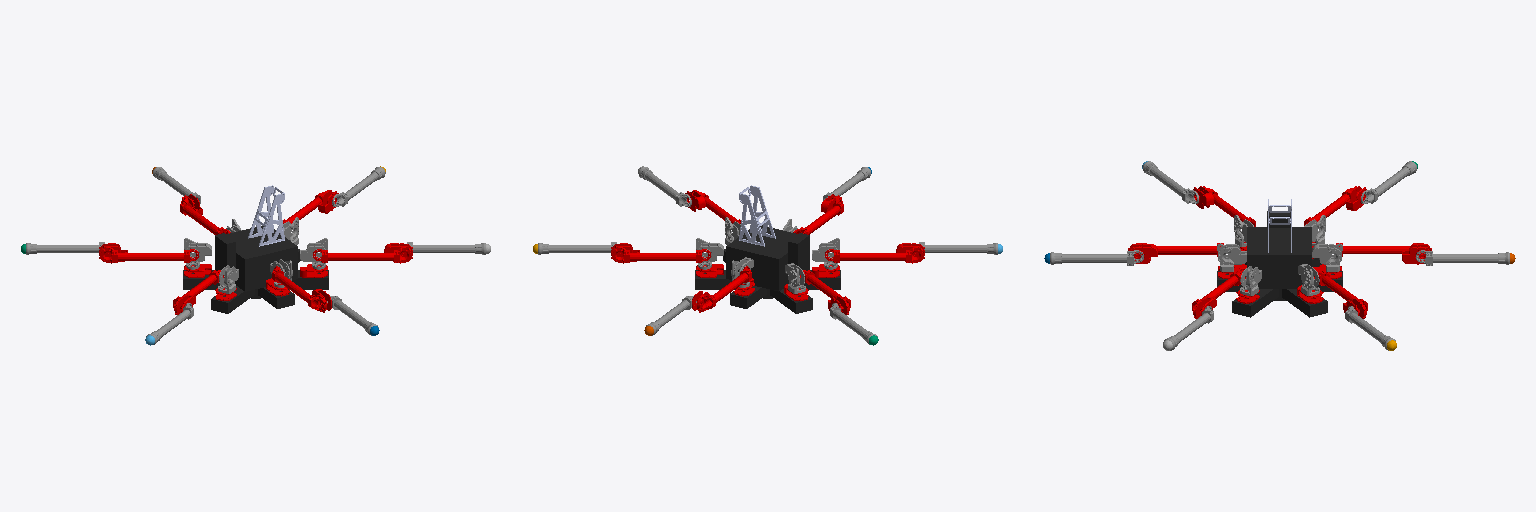
--- Render facts (derived) ---
3 views of the same robot in one strip: view 1: azimuth 30°, elevation 25°; view 2: azimuth 150°, elevation 25°; view 3: azimuth 270°, elevation 25° (orthographic).
Robot: m6 — 42 links, 41 joints (18 revolute, 23 fixed); root link base_link; default pose: every joint at zero.
Links seen in each view (by area): view 1: base_link, camera_mount, elbow2__INPUT_INTERFACE, elbow5__INPUT_INTERFACE, elbow4__INPUT_INTERFACE, elbow3__INPUT_INTERFACE, leg2__LAST_LINK, leg5__LAST_LINK, elbow1__INPUT_INTERFACE, elbow6__INPUT_INTERFACE, leg1__LAST_LINK; view 2: base_link, camera_mount, elbow6__INPUT_INTERFACE, elbow1__INPUT_INTERFACE, elbow3__INPUT_INTERFACE, elbow4__INPUT_INTERFACE, leg6__LAST_LINK, leg1__LAST_LINK, elbow5__INPUT_INTERFACE, leg2__LAST_LINK, elbow2__INPUT_INTERFACE; view 3: base_link, elbow4__INPUT_INTERFACE, elbow3__INPUT_INTERFACE, leg4__LAST_LINK, leg3__LAST_LINK, elbow5__INPUT_INTERFACE, elbow1__INPUT_INTERFACE, elbow2__INPUT_INTERFACE, elbow6__INPUT_INTERFACE, leg5__LAST_LINK, leg6__LAST_LINK, shoulder3__INPUT_INTERFACE (+3 smaller).
Link boxes in pixels (x1,y1,x2,y2): base_link: (183, 226, 328, 313); camera_mount: (248, 185, 284, 246); elbow2__INPUT_INTERFACE: (313, 243, 412, 263); elbow5__INPUT_INTERFACE: (99, 243, 198, 263); elbow4__INPUT_INTERFACE: (272, 266, 331, 312); elbow3__INPUT_INTERFACE: (180, 194, 230, 234); leg2__LAST_LINK: (407, 242, 485, 254); leg5__LAST_LINK: (26, 242, 104, 254); elbow1__INPUT_INTERFACE: (283, 190, 338, 223); elbow6__INPUT_INTERFACE: (173, 270, 223, 314); leg1__LAST_LINK: (332, 167, 385, 206); base_link: (695, 225, 840, 313); camera_mount: (739, 185, 775, 246); elbow6__INPUT_INTERFACE: (825, 243, 924, 263); elbow1__INPUT_INTERFACE: (611, 243, 710, 263); elbow3__INPUT_INTERFACE: (692, 266, 751, 312); elbow4__INPUT_INTERFACE: (793, 194, 843, 234); leg6__LAST_LINK: (919, 242, 997, 254); leg1__LAST_LINK: (538, 242, 616, 254); elbow5__INPUT_INTERFACE: (800, 270, 850, 314); leg2__LAST_LINK: (638, 167, 691, 206); elbow2__INPUT_INTERFACE: (685, 190, 740, 223); base_link: (1217, 211, 1342, 317); elbow4__INPUT_INTERFACE: (1128, 243, 1223, 263); elbow3__INPUT_INTERFACE: (1336, 243, 1431, 264); leg4__LAST_LINK: (1050, 250, 1143, 265); leg3__LAST_LINK: (1416, 250, 1509, 265); elbow5__INPUT_INTERFACE: (1304, 186, 1366, 225); elbow1__INPUT_INTERFACE: (1314, 270, 1367, 318); elbow2__INPUT_INTERFACE: (1192, 270, 1245, 318); elbow6__INPUT_INTERFACE: (1193, 186, 1255, 226); leg5__LAST_LINK: (1361, 161, 1416, 203); leg6__LAST_LINK: (1143, 161, 1198, 203); shoulder3__INPUT_INTERFACE: (1312, 243, 1342, 271).
Size in the robot's own frame: 1.54 by 1.67 by 0.3945 metres.
26 mesh visuals loaded from 8 distinct referenced files (7 binary STL); not drawn: 1 (reference not matched to a file when rendering).

The robot description file, URDF, robot "m6":
<?xml version="1.0" encoding="utf-8"?>
<!-- =================================================================================== -->
<!-- |    This document was autogenerated by xacro from m6.urdf.xacro                  | -->
<!-- |    EDITING THIS FILE BY HAND IS NOT RECOMMENDED                                 | -->
<!-- =================================================================================== -->
<robot name="m6">
  <material name="red">
    <color rgba="0.92 0.0 0.0 1"/>
  </material>
  <material name="black">
    <color rgba="0.2 0.2 0.2 1"/>
  </material>
  <material name="grey">
    <color rgba="0.6 0.6 0.6 1"/>
  </material>
  <!-- <link name="dummy">
  </link>

  <joint name="dummy_joint" type="fixed">
  <parent link="dummy"/>
  <child link="base_link"/>
  </joint> -->
  <link name="base_link">
    <inertial>
      <origin rpy="0 0 0 " xyz="-0.0028085 -0.0003448 0.0270705"/>
      <mass value="1.8476"/>
      <inertia ixx="0" ixy="0" ixz="0" iyy="0" iyz="0" izz="0"/>
    </inertial>
    <visual>
      <origin rpy="0 0 0" xyz="0 0 0"/>
      <geometry>
        <mesh filename="yuna_stl/M6_base_matt6_boxed_full.STL"/>
      </geometry>
      <material name="black">
      </material>
    </visual>
    <collision>
      <origin rpy="0.0 0.0 0.0" xyz="-0.020030 0.0 0.09"/>
      <geometry>
        <box size="0.261940 0.223 0.18"/>
      </geometry>
    </collision>
    <collision>
      <origin rpy="0.0 0.0 0.0" xyz="0.0 0.0 -0.0335"/>
      <geometry>
        <cylinder length="0.063" radius="0.0777"/>
      </geometry>
    </collision>
    <!-- Pipes below PC box -->
    <collision>
      <origin rpy="0.523583333333 1.57075 0.0" xyz="0.1209 -0.06985 -0.02"/>
      <geometry>
        <cylinder length="0.126" radius="0.015800"/>
      </geometry>
    </collision>
    <collision>
      <origin rpy="-0.523583333333 1.57075 0.0" xyz="0.1209 0.06985 -0.02"/>
      <geometry>
        <cylinder length="0.126" radius="0.015800"/>
      </geometry>
    </collision>
    <collision>
      <origin rpy="0.523583333333 1.57075 0.0" xyz="-0.1209 0.06985 -0.02"/>
      <geometry>
        <cylinder length="0.126" radius="0.015800"/>
      </geometry>
    </collision>
    <collision>
      <origin rpy="-0.523583333333 1.57075 0.0" xyz="-0.1209 -0.06985 -0.02"/>
      <geometry>
        <cylinder length="0.126" radius="0.015800"/>
      </geometry>
    </collision>
    <collision>
      <origin rpy="1.57075 1.57075 0.0" xyz="0.0 0.1147 -0.02"/>
      <geometry>
        <cylinder length="0.076" radius="0.015800"/>
      </geometry>
    </collision>
    <collision>
      <origin rpy="1.57075 1.57075 0.0" xyz="0.0 -0.1147 -0.02"/>
      <geometry>
        <cylinder length="0.076" radius="0.015800"/>
      </geometry>
    </collision>
    <!-- Boxes at the end of pipes -->
    <collision>
      <origin rpy="0.0 0.0 0.523583333333" xyz="0.20802 0.1201 -0.023"/>
      <geometry>
        <box size="0.073 0.075 0.046"/>
      </geometry>
    </collision>
    <collision>
      <origin rpy="0.0 0.0 -0.523583333333" xyz="0.20802 -0.1201 -0.023"/>
      <geometry>
        <box size="0.073 0.075 0.046"/>
      </geometry>
    </collision>
    <collision>
      <origin rpy="0.0 0.0 0.523583333333" xyz="-0.20802 -0.1201 -0.023"/>
      <geometry>
        <box size="0.073 0.075 0.046"/>
      </geometry>
    </collision>
    <collision>
      <origin rpy="0.0 0.0 -0.523583333333" xyz="-0.20802 0.1201 -0.023"/>
      <geometry>
        <box size="0.073 0.075 0.046"/>
      </geometry>
    </collision>
    <collision>
      <origin rpy="0.0 0.0 1.57075" xyz="0.0 0.1902 -0.023"/>
      <geometry>
        <box size="0.073 0.075 0.046"/>
      </geometry>
    </collision>
    <collision>
      <origin rpy="0.0 0.0 1.57075" xyz="0.0 -0.1902 -0.023"/>
      <geometry>
        <box size="0.073 0.075 0.046"/>
      </geometry>
    </collision>
  </link>
  <link name="camera_mount">
    <inertial>
      <origin rpy="0 0 0" xyz="-0.00036 0.10008 -0.02312"/>
      <mass value="0.0"/>
      <inertia ixx="0.0" ixy="0.0" ixz="0.0" iyy="0.0" iyz="0.0" izz="0.0"/>
    </inertial>
    <visual>
      <origin rpy="0 0 0" xyz="0 0 0"/>
      <geometry>
        <mesh filename="yuna_stl/camera_mount.STL" scale="1 1 1"/>
      </geometry>
      <material name="">
        <color rgba="0.79216 0.81961 0.93333 1"/>
      </material>
    </visual>
    <collision>
      <origin rpy="0 0 0" xyz="0 0 0"/>
      <geometry>
        <mesh filename="yuna_stl/camera_mount.STL" scale="1 1 1"/>
      </geometry>
    </collision>
  </link>
  <joint name="mount_joint" type="fixed">
    <origin rpy="1.57075 0 -1.57075" xyz="0.045 0 0.125"/>
    <parent link="base_link"/>
    <child link="camera_mount"/>
    <axis xyz="0 0 1"/>
    <limit effort="0" velocity="0"/>
  </joint>
  <!-- <joint name="camera_joint" type="fixed">
      <axis xyz="0 1 0" />
      <origin xyz="0 0 0" rpy="$0 0 0" />
      <parent link="camera_mount"/>
      <child link="camera_joint_link"/>
    </joint>
    <link name="camera_mount"/>
    <link name="camera_joint_link"/> -->


  <material name="realsense_d435_camera_aluminum">
    <color rgba="0.5 0.5 0.5 1"/>
  </material>
  <!-- camera body, with origin at bottom screw mount -->
  <joint name="realsense_d435_camera_joint" type="fixed">
    <origin rpy="0 0.2 0" xyz="0.1 0.0 0.3"/>
    <parent link="base_link"/>
    <child link="realsense_d435_camera_bottom_screw_frame"/>
  </joint>
  <link name="realsense_d435_camera_bottom_screw_frame"/>
  <joint name="realsense_d435_camera_link_joint" type="fixed">
    <origin rpy="0 0 0" xyz="0 0.0175 0.0125"/>
    <parent link="realsense_d435_camera_bottom_screw_frame"/>
    <child link="realsense_d435_camera_link"/>
  </joint>
  <link name="realsense_d435_camera_link">
    <visual>
      <origin rpy="1.57079632679 0 1.57079632679" xyz="0.0149 -0.0175 0"/>
      <geometry>
        <!-- <box size="${d435_cam_width} ${d435_cam_height} ${d435_cam_depth}"/> -->
        <!--<mesh filename="package://realsense2_description/meshes/d435.dae" />-->
        <mesh filename="yuna_stl/d435.dae"/>
        <!--<mesh filename="package://realsense2_description/meshes/d435/d435.dae" />-->
      </geometry>
      <material name="realsense_d435_camera_aluminum"/>
    </visual>
    <collision>
      <origin rpy="0 0 0" xyz="0 -0.0175 0"/>
      <geometry>
        <box size="0.02505 0.09 0.025"/>
      </geometry>
    </collision>
    <inertial>
      <!-- The following are not reliable values, and should not be used for modeling -->
      <mass value="0.564"/>
      <origin xyz="0 0 0"/>
      <inertia ixx="0.003881243" ixy="0.0" ixz="0.0" iyy="0.000498940" iyz="0.0" izz="0.003879257"/>
    </inertial>
  </link>
  <!-- camera depth joints and links -->
  <joint name="realsense_d435_camera_depth_joint" type="fixed">
    <origin rpy="0 0 0" xyz="0 0 0"/>
    <parent link="realsense_d435_camera_link"/>
    <child link="realsense_d435_camera_depth_frame"/>
  </joint>
  <link name="realsense_d435_camera_depth_frame"/>
  <joint name="realsense_d435_camera_depth_optical_joint" type="fixed">
    <origin rpy="-1.57079632679 0 -1.57079632679" xyz="0 0 0"/>
    <parent link="realsense_d435_camera_depth_frame"/>
    <child link="realsense_d435_camera_depth_optical_frame"/>
  </joint>
  <link name="realsense_d435_camera_depth_optical_frame"/>
  <!-- camera left IR joints and links -->
  <joint name="realsense_d435_camera_left_ir_joint" type="fixed">
    <origin rpy="0 0 0" xyz="0 0.0 0"/>
    <parent link="realsense_d435_camera_depth_frame"/>
    <child link="realsense_d435_camera_left_ir_frame"/>
  </joint>
  <link name="realsense_d435_camera_left_ir_frame"/>
  <joint name="realsense_d435_camera_left_ir_optical_joint" type="fixed">
    <origin rpy="-1.57079632679 0 -1.57079632679" xyz="0 0 0"/>
    <parent link="realsense_d435_camera_left_ir_frame"/>
    <child link="realsense_d435_camera_left_ir_optical_frame"/>
  </joint>
  <link name="realsense_d435_camera_left_ir_optical_frame"/>
  <!-- camera right IR joints and links -->
  <joint name="realsense_d435_camera_right_ir_joint" type="fixed">
    <origin rpy="0 0 0" xyz="0 -0.05 0"/>
    <parent link="realsense_d435_camera_depth_frame"/>
    <child link="realsense_d435_camera_right_ir_frame"/>
  </joint>
  <link name="realsense_d435_camera_right_ir_frame"/>
  <joint name="realsense_d435_camera_right_ir_optical_joint" type="fixed">
    <origin rpy="-1.57079632679 0 -1.57079632679" xyz="0 0 0"/>
    <parent link="realsense_d435_camera_right_ir_frame"/>
    <child link="realsense_d435_camera_right_ir_optical_frame"/>
  </joint>
  <link name="realsense_d435_camera_right_ir_optical_frame"/>
  <!-- camera color joints and links -->
  <joint name="realsense_d435_camera_color_joint" type="fixed">
    <origin rpy="0 0 0" xyz="0 0 0"/>
    <parent link="realsense_d435_camera_depth_frame"/>
    <child link="realsense_d435_camera_color_frame"/>
  </joint>
  <link name="realsense_d435_camera_color_frame"/>
  <joint name="realsense_d435_camera_color_optical_joint" type="fixed">
    <origin rpy="-1.57079632679 0 -1.57079632679" xyz="0 0 0"/>
    <parent link="realsense_d435_camera_color_frame"/>
    <child link="realsense_d435_camera_color_optical_frame"/>
  </joint>
  <link name="realsense_d435_camera_color_optical_frame"/>


  <joint name="leg1__OUTPUT_INTERFACE" type="fixed">
    <origin rpy="0 0 3.66508333333" xyz="0.205681 0.11875 0"/>
    <parent link="base_link"/>
    <child link="base1__INPUT_INTERFACE"/>
    <axis xyz="0 0 1"/>
    <limit effort="0" velocity="0"/>
  </joint>
    <link name="base1__INPUT_INTERFACE">
    <inertial>
      <origin rpy="0 0 0" xyz="0.015005 0.001775 0.015011"/>
      <mass value="1.2804"/>
      <inertia ixx="0.000533112547871023" ixy="8.52907138161489E-05" ixz="6.73224445510202E-07" iyy="0.000959826064510336" iyz="8.0840859065961E-07" izz="0.00130175668733721"/>
    </inertial>
    <visual>
      <origin rpy="0 0 0" xyz="0 0 0.015"/>
      <geometry>
        <mesh filename="yuna_stl/M6_base_motor.STL"/>
      </geometry>
      <material name="red">
      </material>
    </visual>
    <collision>
      <origin
          xyz="0 0 0.015"
          rpy="0 0 0" />
        <geometry>
          <mesh
            filename="yuna_stl/boxed_meshes/base_motor.STL" />
        </geometry>
    </collision>
  </link>
  <link name="shoulder1__INPUT_INTERFACE">
    <inertial>
      <origin rpy="0 0 0" xyz="-0.012554 -0.0090693 0.0503697"/>
      <mass value="1.4679"/>
      <inertia ixx="0.00085304" ixy="-4.463E-05" ixz="4.178E-05" iyy="0.0016596" iyz="4.4E-06" izz="0.00113592"/>
    </inertial>
    <visual>
      <origin rpy="0 0 0" xyz="0 0 0"/>
      <geometry>
        <mesh filename="yuna_stl/M6_left_link1_red.STL"/>
      </geometry>
      <material name="grey">
      </material>
    </visual>
    <collision>
      <origin
          xyz="0 0 0"
          rpy="0 0 0" />
        <geometry>
          <mesh
            filename="yuna_stl/boxed_meshes/left_link1_red.STL" />
        </geometry>
    </collision>
  </link>
  <joint name="base1" type="revolute">
    <origin rpy="0 0 3.1415" xyz="0 0 0.03105"/>
    <parent link="base1__INPUT_INTERFACE"/>
    <child link="shoulder1__INPUT_INTERFACE"/>
    <axis xyz="0 0 1"/>
    <dynamics damping=".1" friction="0.2"/>
    <limit effort="100.0" lower="-1.57075" upper="1.57075" velocity="2.208932"/>
  </joint>
  <transmission name="base1_trans">
    <type>transmission_interface/SimpleTransmission</type>
    <joint name="base1">
      <hardwareInterface>hardware_interface/EffortJointInterface</hardwareInterface>
    </joint>
    <actuator name="base1_motor">
      <hardwareInterface>hardware_interface/EffortJointInterface</hardwareInterface>
      <mechanicalReduction>300</mechanicalReduction>
    </actuator>
  </transmission>
  <link name="elbow1__INPUT_INTERFACE">
    <inertial>
      <origin rpy="0 0 0" xyz="0.27885723 0.00143862 -0.00919708"/>
      <mass value="1.58985"/>
      <inertia ixx="0.00087813" ixy="-2.653E-05" ixz="-0.00101493" iyy="0.01121522" iyz="-1.36E-05" izz="0.01137087"/>
    </inertial>
    <visual>
      <origin rpy="0 0 0" xyz="0 0 0"/>
      <geometry>
        <mesh filename="yuna_stl/M6_link2_red.STL"/>
      </geometry>
      <material name="red">
      </material>
    </visual>
    <collision>
      <origin
          xyz="0 0 0"
          rpy="0 0 0" />
        <geometry>
          <mesh
            filename="yuna_stl/boxed_meshes/link2_red.STL" />
        </geometry>
    </collision>
    <collision>
      <origin rpy="0 1.57075 0" xyz="0.159500 0.0 0.02"/>
      <geometry>
        <cylinder length="0.246" radius="0.015811"/>
      </geometry>
    </collision>
    <collision>
      <origin rpy="0 0 0" xyz="0.317750 0.0 0.01875"/>
      <geometry>
        <box size="0.06850 0.06500 0.037500"/>
      </geometry>
    </collision>
    <collision>
      <origin rpy="0.0 0.0 0.0" xyz="0.299560 0.001750 -0.015520"/>
      <geometry>
        <box size="0.106400 0.069500 0.030050"/>
      </geometry>
    </collision>
  </link>
  <joint name="shoulder1" type="revolute">
    <origin rpy="-1.57075 0 0" xyz="0 0.00855 0.055"/>
    <parent link="shoulder1__INPUT_INTERFACE"/>
    <child link="elbow1__INPUT_INTERFACE"/>
    <axis xyz="0 0 1"/>
    <dynamics damping=".1" friction="0.2"/>
    <limit effort="100.0" lower="-1.57075" upper="1.57075" velocity="2.208932"/>
  </joint>
  <transmission name="shoulder1_trans">
    <type>transmission_interface/SimpleTransmission</type>
    <joint name="shoulder1">
      <hardwareInterface>hardware_interface/EffortJointInterface</hardwareInterface>
    </joint>
    <actuator name="shoulder1_motor">
      <hardwareInterface>hardware_interface/EffortJointInterface</hardwareInterface>
      <mechanicalReduction>300</mechanicalReduction>
    </actuator>
  </transmission>
  <link name="leg1__LAST_LINK">
    <inertial>
      <origin rpy="0 0 0" xyz="0.12121923 0 0.01723596"/>
      <mass value="0.229433"/>
      <inertia ixx="7.471E-05" ixy="0" ixz="7.798E-05" iyy="0.00331684" iyz="0" izz="0.0033262"/>
    </inertial>
    <visual>
      <origin rpy="0 0 0" xyz="0 0 0"/>
      <geometry>
        <mesh filename="yuna_stl/M6_link3_red.STL"/>
      </geometry>
      <material name="grey">
      </material>
    </visual>
    <collision>
        <origin
          xyz="0 0 0"
          rpy="0 0 0" />
        <geometry>
          <mesh
            filename="yuna_stl/boxed_meshes/link3_red.STL" />
        </geometry>
    </collision>
    <collision>
      <origin rpy="0 0 0" xyz="0.00575 0.0 0.0185"/>
      <geometry>
        <box size="0.05850 0.04800 0.03650"/>
      </geometry>
    </collision>
    <collision>
      <origin rpy="0.0 1.57075 0.0" xyz="0.15125 0.000 0.020"/>
      <geometry>
        <cylinder length="0.230500" radius="0.015811"/>
      </geometry>
    </collision>
    <collision>
      <origin rpy="0.0 0.0 0.0" xyz="0.28950 0.00 0.02"/>
      <geometry>
        <box size="0.045000 0.047030 0.047030"/>
      </geometry>
    </collision>
  </link>
  <joint name="elbow1" type="revolute">
    <origin rpy="3.1415 0 0" xyz="0.3195 0 -0.03105"/>
    <parent link="elbow1__INPUT_INTERFACE"/>
    <child link="leg1__LAST_LINK"/>
    <axis xyz="0 0 1"/>
    <dynamics damping=".1" friction="0.2"/>
    <limit effort="100.0" lower="-3.1415" upper="3.1415" velocity="2.208932"/>
  </joint>
  <transmission name="elbow1_trans">
    <type>transmission_interface/SimpleTransmission</type>
    <joint name="elbow1">
      <hardwareInterface>hardware_interface/EffortJointInterface</hardwareInterface>
    </joint>
    <actuator name="elbow1_motor">
      <hardwareInterface>hardware_interface/EffortJointInterface</hardwareInterface>
      <mechanicalReduction>300</mechanicalReduction>
    </actuator>
  </transmission>
  <link name="leg1__FOOT">
    <visual>
      <origin rpy="0 0 0" xyz="0 0 0"/>
      <geometry>
        <sphere radius="0.02"/>
      </geometry>
      <material name="orange"/>
    </visual>
    <collision>
      <origin rpy="0 0 0" xyz="0 0 0"/>
      <geometry>
        <sphere radius="0.03"/>
      </geometry>
    </collision>
    <inertial>
      <origin rpy="0 0 0" xyz="0 0 0"/>
      <mass value="0.06"/>
      <inertia ixx="9.6e-06" ixy="0.0" ixz="0.0" iyy="9.6e-06" iyz="0.0" izz="9.6e-06"/>
    </inertial>
  </link>
  <joint name="leg1__FOOT_INTERFACE" type="fixed">
    <origin rpy="0 0 0" xyz="0.31 0 0.02"/>
    <parent link="leg1__LAST_LINK"/>
    <child link="leg1__FOOT"/>
    <axis xyz="0 0 1"/>
    <limit effort="0" velocity="0"/>
  </joint>
  <link name="base3__INPUT_INTERFACE">
    <inertial>
      <origin rpy="0 0 0" xyz="0.015005 0.001775 0.015011"/>
      <mass value="1.2804"/>
      <inertia ixx="0.000533112547871023" ixy="8.52907138161489E-05" ixz="6.73224445510202E-07" iyy="0.000959826064510336" iyz="8.0840859065961E-07" izz="0.00130175668733721"/>
    </inertial>
    <visual>
      <origin rpy="0 0 0" xyz="0 0 0.015"/>
      <geometry>
        <mesh filename="yuna_stl/M6_base_motor.STL"/>
      </geometry>
      <material name="red">
      </material>
    </visual>
    <collision>
      <origin
          xyz="0 0 0.015"
          rpy="0 0 0" />
        <geometry>
          <mesh
            filename="yuna_stl/boxed_meshes/base_motor.STL" />
        </geometry>
    </collision>
  </link>
  <joint name="leg3__OUTPUT_INTERFACE" type="fixed">
    <origin rpy="0 0 4.71225" xyz="0 0.1875 0"/>
    <parent link="base_link"/>
    <child link="base3__INPUT_INTERFACE"/>
    <axis xyz="0 0 1"/>
    <limit effort="0" velocity="0"/>
  </joint>
  <link name="shoulder3__INPUT_INTERFACE">
    <inertial>
      <origin rpy="0 0 0" xyz="-0.012554 -0.0090693 0.0503697"/>
      <mass value="1.4679"/>
      <inertia ixx="0.00085304" ixy="-4.463E-05" ixz="4.178E-05" iyy="0.0016596" iyz="4.4E-06" izz="0.00113592"/>
    </inertial>
    <visual>
      <origin rpy="0 0 0" xyz="0 0 0"/>
      <geometry>
        <mesh filename="yuna_stl/M6_left_link1_red.STL"/>
      </geometry>
      <material name="grey">
      </material>
    </visual>
    <collision>
      <origin
          xyz="0 0 0"
          rpy="0 0 0" />
        <geometry>
          <mesh
            filename="yuna_stl/boxed_meshes/left_link1_red.STL" />
        </geometry>
    </collision>
  </link>
  <joint name="base3" type="revolute">
    <origin rpy="0 0 3.1415" xyz="0 0 0.03105"/>
    <parent link="base3__INPUT_INTERFACE"/>
    <child link="shoulder3__INPUT_INTERFACE"/>
    <axis xyz="0 0 1"/>
    <dynamics damping=".1" friction="0.2"/>
    <limit effort="100.0" lower="-1.57075" upper="1.57075" velocity="2.208932"/>
  </joint>
  <transmission name="base3_trans">
    <type>transmission_interface/SimpleTransmission</type>
    <joint name="base3">
      <hardwareInterface>hardware_interface/EffortJointInterface</hardwareInterface>
    </joint>
    <actuator name="base3_motor">
      <hardwareInterface>hardware_interface/EffortJointInterface</hardwareInterface>
      <mechanicalReduction>300</mechanicalReduction>
    </actuator>
  </transmission>
  <link name="elbow3__INPUT_INTERFACE">
    <inertial>
      <origin rpy="0 0 0" xyz="0.27885723 0.00143862 -0.00919708"/>
      <mass value="1.58985"/>
      <inertia ixx="0.00087813" ixy="-2.653E-05" ixz="-0.00101493" iyy="0.01121522" iyz="-1.36E-05" izz="0.01137087"/>
    </inertial>
    <visual>
      <origin rpy="0 0 0" xyz="0 0 0"/>
      <geometry>
        <mesh filename="yuna_stl/M6_link2_red.STL"/>
      </geometry>
      <material name="red">
      </material>
    </visual>
    <collision>
      <origin
          xyz="0 0 0"
          rpy="0 0 0" />
        <geometry>
          <mesh
            filename="yuna_stl/boxed_meshes/link2_red.STL" />
        </geometry>
    </collision>
    <collision>
      <origin rpy="0 1.57075 0" xyz="0.159500 0.0 0.02"/>
      <geometry>
        <cylinder length="0.246" radius="0.015811"/>
      </geometry>
    </collision>
    <collision>
      <origin rpy="0 0 0" xyz="0.317750 0.0 0.01875"/>
      <geometry>
        <box size="0.06850 0.06500 0.037500"/>
      </geometry>
    </collision>
    <collision>
      <origin rpy="0.0 0.0 0.0" xyz="0.299560 0.001750 -0.015520"/>
      <geometry>
        <box size="0.106400 0.069500 0.030050"/>
      </geometry>
    </collision>
  </link>
  <joint name="shoulder3" type="revolute">
    <origin rpy="-1.57075 0 0" xyz="0 0.00855 0.055"/>
    <parent link="shoulder3__INPUT_INTERFACE"/>
    <child link="elbow3__INPUT_INTERFACE"/>
    <axis xyz="0 0 1"/>
    <dynamics damping=".1" friction="0.2"/>
    <limit effort="100.0" lower="-1.57075" upper="1.57075" velocity="2.208932"/>
  </joint>
  <transmission name="shoulder3_trans">
    <type>transmission_interface/SimpleTransmission</type>
    <joint name="shoulder3">
      <hardwareInterface>hardware_interface/EffortJointInterface</hardwareInterface>
    </joint>
    <actuator name="shoulder3_motor">
      <hardwareInterface>hardware_interface/EffortJointInterface</hardwareInterface>
      <mechanicalReduction>300</mechanicalReduction>
    </actuator>
  </transmission>
  <link name="leg3__LAST_LINK">
    <inertial>
      <origin rpy="0 0 0" xyz="0.12121923 0 0.01723596"/>
      <mass value="0.229433"/>
      <inertia ixx="7.471E-05" ixy="0" ixz="7.798E-05" iyy="0.00331684" iyz="0" izz="0.0033262"/>
    </inertial>
    <visual>
      <origin rpy="0 0 0" xyz="0 0 0"/>
      <geometry>
        <mesh filename="yuna_stl/M6_link3_red.STL"/>
      </geometry>
      <material name="grey">
      </material>
    </visual>
    <collision>
        <origin
          xyz="0 0 0"
          rpy="0 0 0" />
        <geometry>
          <mesh
            filename="yuna_stl/boxed_meshes/link3_red.STL" />
        </geometry>
      </collision>
    <collision>
      <origin rpy="0 0 0" xyz="0.00575 0.0 0.0185"/>
      <geometry>
        <box size="0.05850 0.04800 0.03650"/>
      </geometry>
    </collision>
    <collision>
      <origin rpy="0.0 1.57075 0.0" xyz="0.15125 0.000 0.020"/>
      <geometry>
        <cylinder length="0.230500" radius="0.015811"/>
      </geometry>
    </collision>
    <collision>
      <origin rpy="0.0 0.0 0.0" xyz="0.28950 0.00 0.02"/>
      <geometry>
        <box size="0.045000 0.047030 0.047030"/>
      </geometry>
    </collision>
  </link>
  <joint name="elbow3" type="revolute">
    <origin rpy="3.1415 0 0" xyz="0.3195 0 -0.03105"/>
    <parent link="elbow3__INPUT_INTERFACE"/>
    <child link="leg3__LAST_LINK"/>
    <axis xyz="0 0 1"/>
    <dynamics damping=".1" friction="0.2"/>
    <limit effort="100.0" lower="-3.1415" upper="3.1415" velocity="2.208932"/>
  </joint>
  <transmission name="elbow3_trans">
    <type>transmission_interface/SimpleTransmission</type>
    <joint name="elbow3">
      <hardwareInterface>hardware_interface/EffortJointInterface</hardwareInterface>
    </joint>
    <actuator name="elbow3_motor">
      <hardwareInterface>hardware_interface/EffortJointInterface</hardwareInterface>
      <mechanicalReduction>300</mechanicalReduction>
    </actuator>
  </transmission>
  <link name="leg3__FOOT">
    <visual>
      <origin rpy="0 0 0" xyz="0 0 0"/>
      <geometry>
        <sphere radius="0.02"/>
      </geometry>
      <material name="orange"/>
    </visual>
    <collision>
      <origin rpy="0 0 0" xyz="0 0 0"/>
      <geometry>
        <sphere radius="0.03"/>
      </geometry>
    </collision>
    <inertial>
      <origin rpy="0 0 0" xyz="0 0 0"/>
      <mass value="0.06"/>
      <inertia ixx="9.6e-06" ixy="0.0" ixz="0.0" iyy="9.6e-06" iyz="0.0" izz="9.6e-06"/>
    </inertial>
  </link>
  <joint name="leg3__FOOT_INTERFACE" type="fixed">
    <origin rpy="0 0 0" xyz="0.31 0 0.02"/>
    <parent link="leg3__LAST_LINK"/>
    <child link="leg3__FOOT"/>
    <axis xyz="0 0 1"/>
    <limit effort="0" velocity="0"/>
  </joint>
  <link name="base5__INPUT_INTERFACE">
    <inertial>
      <origin rpy="0 0 0" xyz="0.015005 0.001775 0.015011"/>
      <mass value="1.2804"/>
      <inertia ixx="0.000533112547871023" ixy="8.52907138161489E-05" ixz="6.73224445510202E-07" iyy="0.000959826064510336" iyz="8.0840859065961E-07" izz="0.00130175668733721"/>
    </inertial>
    <visual>
      <origin rpy="0 0 0" xyz="0 0 0.015"/>
      <geometry>
        <mesh filename="yuna_stl/M6_base_motor.STL"/>
      </geometry>
      <material name="red">
      </material>
    </visual>
    <collision>
      <origin
          xyz="0 0 0.015"
          rpy="0 0 0" />
        <geometry>
          <mesh
            filename="yuna_stl/boxed_meshes/base_motor.STL" />
        </geometry>
    </collision>
  </link>
  <joint name="leg5__OUTPUT_INTERFACE" type="fixed">
    <origin rpy="0 0 5.75941666667" xyz="-0.205681 0.11875 0"/>
    <parent link="base_link"/>
    <child link="base5__INPUT_INTERFACE"/>
    <axis xyz="0 0 1"/>
    <limit effort="0" velocity="0"/>
  </joint>
  <link name="shoulder5__INPUT_INTERFACE">
    <inertial>
      <origin rpy="0 0 0" xyz="-0.012554 -0.0090693 0.0503697"/>
      <mass value="1.4679"/>
      <inertia ixx="0.00085304" ixy="-4.463E-05" ixz="4.178E-05" iyy="0.0016596" iyz="4.4E-06" izz="0.00113592"/>
    </inertial>
    <visual>
      <origin rpy="0 0 0" xyz="0 0 0"/>
      <geometry>
        <mesh filename="yuna_stl/M6_left_link1_red.STL"/>
      </geometry>
      <material name="grey">
      </material>
    </visual>
    <collision>
      <origin
          xyz="0 0 0"
          rpy="0 0 0" />
        <geometry>
          <mesh
            filename="yuna_stl/boxed_meshes/left_link1_red.STL" />
        </geometry>
    </collision>
  </link>
  <joint name="base5" type="revolute">
    <origin rpy="0 0 3.1415" xyz="0 0 0.03105"/>
    <parent link="base5__INPUT_INTERFACE"/>
    <child link="shoulder5__INPUT_INTERFACE"/>
    <axis xyz="0 0 1"/>
    <dynamics damping=".1" friction="0.2"/>
    <limit effort="100.0" lower="-1.57075" upper="1.57075" velocity="2.208932"/>
  </joint>
  <transmission name="base5_trans">
    <type>transmission_interface/SimpleTransmission</type>
    <joint name="base5">
      <hardwareInterface>hardware_interface/EffortJointInterface</hardwareInterface>
    </joint>
    <actuator name="base5_motor">
      <hardwareInterface>hardware_interface/EffortJointInterface</hardwareInterface>
      <mechanicalReduction>300</mechanicalReduction>
    </actuator>
  </transmission>
  <link name="elbow5__INPUT_INTERFACE">
    <inertial>
      <origin rpy="0 0 0" xyz="0.27885723 0.00143862 -0.00919708"/>
      <mass value="1.58985"/>
      <inertia ixx="0.00087813" ixy="-2.653E-05" ixz="-0.00101493" iyy="0.01121522" iyz="-1.36E-05" izz="0.01137087"/>
    </inertial>
    <visual>
      <origin rpy="0 0 0" xyz="0 0 0"/>
      <geometry>
        <mesh filename="yuna_stl/M6_link2_red.STL"/>
      </geometry>
      <material name="red">
      </material>
    </visual>
    <collision>
      <origin
          xyz="0 0 0"
          rpy="0 0 0" />
        <geometry>
          <mesh
            filename="yuna_stl/boxed_meshes/link2_red.STL" />
        </geometry>
    </collision>
    <collision>
      <origin rpy="0 1.57075 0" xyz="0.159500 0.0 0.02"/>
      <geometry>
        <cylinder length="0.246" radius="0.015811"/>
      </geometry>
    </collision>
    <collision>
      <origin rpy="0 0 0" xyz="0.317750 0.0 0.01875"/>
      <geometry>
        <box size="0.06850 0.06500 0.037500"/>
      </geometry>
    </collision>
    <collision>
      <origin rpy="0.0 0.0 0.0" xyz="0.299560 0.001750 -0.015520"/>
      <geometry>
        <box size="0.106400 0.069500 0.030050"/>
      </geometry>
    </collision>
  </link>
  <joint name="shoulder5" type="revolute">
    <origin rpy="-1.57075 0 0" xyz="0 0.00855 0.055"/>
    <parent link="shoulder5__INPUT_INTERFACE"/>
    <child link="elbow5__INPUT_INTERFACE"/>
    <axis xyz="0 0 1"/>
    <dynamics damping=".1" friction="0.2"/>
    <limit effort="100.0" lower="-1.57075" upper="1.57075" velocity="2.208932"/>
  </joint>
  <transmission name="shoulder5_trans">
    <type>transmission_interface/SimpleTransmission</type>
    <joint name="shoulder5">
      <hardwareInterface>hardware_interface/EffortJointInterface</hardwareInterface>
    </joint>
    <actuator name="shoulder5_motor">
      <hardwareInterface>hardware_interface/EffortJointInterface</hardwareInterface>
      <mechanicalReduction>300</mechanicalReduction>
    </actuator>
  </transmission>
  <link name="leg5__LAST_LINK">
    <inertial>
      <origin rpy="0 0 0" xyz="0.12121923 0 0.01723596"/>
      <mass value="0.229433"/>
      <inertia ixx="7.471E-05" ixy="0" ixz="7.798E-05" iyy="0.00331684" iyz="0" izz="0.0033262"/>
    </inertial>
    <visual>
      <origin rpy="0 0 0" xyz="0 0 0"/>
      <geometry>
        <mesh filename="yuna_stl/M6_link3_red.STL"/>
      </geometry>
      <material name="grey">
      </material>
    </visual>
    <collision>
        <origin
          xyz="0 0 0"
          rpy="0 0 0" />
        <geometry>
          <mesh
            filename="yuna_stl/boxed_meshes/link3_red.STL" />
        </geometry>
      </collision>
    <collision>
      <origin rpy="0 0 0" xyz="0.00575 0.0 0.0185"/>
      <geometry>
        <box size="0.05850 0.04800 0.03650"/>
      </geometry>
    </collision>
    <collision>
      <origin rpy="0.0 1.57075 0.0" xyz="0.15125 0.000 0.020"/>
      <geometry>
        <cylinder length="0.230500" radius="0.015811"/>
      </geometry>
    </collision>
    <collision>
      <origin rpy="0.0 0.0 0.0" xyz="0.28950 0.00 0.02"/>
      <geometry>
        <box size="0.045000 0.047030 0.047030"/>
      </geometry>
    </collision>
  </link>
  <joint name="elbow5" type="revolute">
    <origin rpy="3.1415 0 0" xyz="0.3195 0 -0.03105"/>
    <parent link="elbow5__INPUT_INTERFACE"/>
    <child link="leg5__LAST_LINK"/>
    <axis xyz="0 0 1"/>
    <dynamics damping=".1" friction="0.2"/>
    <limit effort="100.0" lower="-3.1415" upper="3.1415" velocity="2.208932"/>
  </joint>
  <transmission name="elbow5_trans">
    <type>transmission_interface/SimpleTransmission</type>
    <joint name="elbow5">
      <hardwareInterface>hardware_interface/EffortJointInterface</hardwareInterface>
    </joint>
    <actuator name="elbow5_motor">
      <hardwareInterface>hardware_interface/EffortJointInterface</hardwareInterface>
      <mechanicalReduction>300</mechanicalReduction>
    </actuator>
  </transmission>
  <link name="leg5__FOOT">
    <visual>
      <origin rpy="0 0 0" xyz="0 0 0"/>
      <geometry>
        <sphere radius="0.02"/>
      </geometry>
      <material name="orange"/>
    </visual>
    <collision>
      <origin rpy="0 0 0" xyz="0 0 0"/>
      <geometry>
        <sphere radius="0.03"/>
      </geometry>
    </collision>
    <inertial>
      <origin rpy="0 0 0" xyz="0 0 0"/>
      <mass value="0.06"/>
      <inertia ixx="9.6e-06" ixy="0.0" ixz="0.0" iyy="9.6e-06" iyz="0.0" izz="9.6e-06"/>
    </inertial>
  </link>
  <joint name="leg5__FOOT_INTERFACE" type="fixed">
    <origin rpy="0 0 0" xyz="0.31 0 0.02"/>
    <parent link="leg5__LAST_LINK"/>
    <child link="leg5__FOOT"/>
    <axis xyz="0 0 1"/>
    <limit effort="0" velocity="0"/>
  </joint>
  <link name="base2__INPUT_INTERFACE">
    <inertial>
      <origin rpy="0 0 0" xyz="0.015005 0.001775 0.015011"/>
      <mass value="1.2804"/>
      <inertia ixx="0.000533112547871023" ixy="8.52907138161489E-05" ixz="6.73224445510202E-07" iyy="0.000959826064510336" iyz="8.0840859065961E-07" izz="0.00130175668733721"/>
    </inertial>
    <visual>
      <origin rpy="0 0 0" xyz="0 0 0.015"/>
      <geometry>
        <mesh filename="yuna_stl/M6_base_motor.STL"/>
      </geometry>
      <material name="red">
      </material>
    </visual>
    <collision>
      <origin
          xyz="0 0 0.015"
          rpy="0 0 0" />
        <geometry>
          <mesh
            filename="yuna_stl/boxed_meshes/base_motor.STL" />
        </geometry>
    </collision>
  </link>
  <joint name="leg2__OUTPUT_INTERFACE" type="fixed">
    <origin rpy="0 0 2.61791666667" xyz="0.205681 -0.11875 0"/>
    <parent link="base_link"/>
    <child link="base2__INPUT_INTERFACE"/>
    <axis xyz="0 0 1"/>
    <limit effort="0" velocity="0"/>
  </joint>
  <link name="shoulder2__INPUT_INTERFACE">
    <inertial>
      <origin rpy="0 0 0" xyz="-0.012554 -0.0090693 -0.0503697"/>
      <mass value="1.4679"/>
      <inertia ixx="0.00085304" ixy="-4.463E-05" ixz="-4.178E-05" iyy="0.0016596" iyz="-4.4E-06" izz="0.00113592"/>
    </inertial>
    <visual>
      <origin rpy="0 0 0" xyz="0 0 0"/>
      <geometry>
        <mesh filename="yuna_stl/M6_right_link1_red.STL"/>
      </geometry>
      <material name="grey">
      </material>
    </visual>
    <collision>
      <origin
          xyz="0 0 0"
          rpy="0 0 0" />
        <geometry>
          <mesh
            filename="yuna_stl/boxed_meshes/right_link1_red.STL" />
        </geometry>
    </collision>
  </link>
  <joint name="base2" type="revolute">
    <origin rpy="0 0 0" xyz="0 0 0.03105"/>
    <parent link="base2__INPUT_INTERFACE"/>
    <child link="shoulder2__INPUT_INTERFACE"/>
    <axis xyz="0 0 1"/>
    <dynamics damping=".1" friction="0.2"/>
    <limit effort="80.0" lower="-1.57075" upper="1.57075" velocity="2.208932"/>
  </joint>
  <transmission name="base2_trans">
    <type>transmission_interface/SimpleTransmission</type>
    <joint name="base2">
      <hardwareInterface>hardware_interface/EffortJointInterface</hardwareInterface>
    </joint>
    <actuator name="base2_motor">
      <hardwareInterface>hardware_interface/EffortJointInterface</hardwareInterface>
      <mechanicalReduction>300</mechanicalReduction>
    </actuator>
  </transmission>
  <link name="elbow2__INPUT_INTERFACE">
    <inertial>
      <origin rpy="0 0 0" xyz="0.27885723 0.00143862 -0.00919708"/>
      <mass value="1.58985"/>
      <inertia ixx="0.00087813" ixy="-2.653E-05" ixz="-0.00101493" iyy="0.01121522" iyz="-1.36E-05" izz="0.01137087"/>
    </inertial>
    <visual>
      <origin rpy="0 0 0" xyz="0 0 0"/>
      <geometry>
        <mesh filename="yuna_stl/M6_link2_red.STL"/>
      </geometry>
      <material name="red">
      </material>
    </visual>
    <collision>
      <origin
          xyz="0 0 0"
          rpy="0 0 0" />
        <geometry>
          <mesh
            filename="yuna_stl/boxed_meshes/link2_red.STL" />
        </geometry>
    </collision>
    <collision>
      <origin rpy="0 1.57075 0" xyz="0.159500 0.0 0.02"/>
      <geometry>
        <cylinder length="0.246" radius="0.015811"/>
      </geometry>
    </collision>
    <collision>
      <origin rpy="0 0 0" xyz="0.317750 0.0 0.01875"/>
      <geometry>
        <box size="0.06850 0.06500 0.037500"/>
      </geometry>
    </collision>
    <collision>
      <origin rpy="0.0 0.0 0.0" xyz="0.299560 0.001750 -0.015520"/>
      <geometry>
        <box size="0.106400 0.069500 0.030050"/>
      </geometry>
    </collision>
  </link>
  <joint name="shoulder2" type="revolute">
    <origin rpy="1.57075 0 3.1415" xyz="0 0.00855 0.055"/>
    <parent link="shoulder2__INPUT_INTERFACE"/>
    <child link="elbow2__INPUT_INTERFACE"/>
    <axis xyz="0 0 1"/>
    <dynamics damping=".1" friction="0.2"/>
    <limit effort="80.0" lower="-1.57075" upper="1.57075" velocity="2.208932"/>
  </joint>
  <transmission name="shoulder2_trans">
    <type>transmission_interface/SimpleTransmission</type>
    <joint name="shoulder2">
      <hardwareInterface>hardware_interface/EffortJointInterface</hardwareInterface>
    </joint>
    <actuator name="shoulder2_motor">
      <hardwareInterface>hardware_interface/EffortJointInterface</hardwareInterface>
      <mechanicalReduction>300</mechanicalReduction>
    </actuator>
  </transmission>
  <link name="leg2__LAST_LINK">
    <inertial>
      <origin rpy="0 0 0" xyz="0.12121923 0 0.01723596"/>
      <mass value="0.229433"/>
      <inertia ixx="7.471E-05" ixy="0" ixz="7.798E-05" iyy="0.00331684" iyz="0" izz="0.0033262"/>
    </inertial>
    <visual>
      <origin rpy="0 0 0" xyz="0 0 0"/>
      <geometry>
        <mesh filename="yuna_stl/M6_link3_red.STL"/>
      </geometry>
      <material name="grey">
      </material>
    </visual>
    <collision>
        <origin
          xyz="0 0 0"
          rpy="0 0 0" />
        <geometry>
          <mesh
            filename="yuna_stl/boxed_meshes/link3_red.STL" />
        </geometry>
      </collision>
    <collision>
      <origin rpy="0 0 0" xyz="0.00575 0.0 0.0185"/>
      <geometry>
        <box size="0.05850 0.04800 0.03650"/>
      </geometry>
    </collision>
    <collision>
      <origin rpy="0.0 1.57075 0.0" xyz="0.15125 0.000 0.020"/>
      <geometry>
        <cylinder length="0.230500" radius="0.015811"/>
      </geometry>
    </collision>
    <collision>
      <origin rpy="0.0 0.0 0.0" xyz="0.28950 0.00 0.02"/>
      <geometry>
        <box size="0.045000 0.047030 0.047030"/>
      </geometry>
    </collision>
  </link>
  <joint name="elbow2" type="revolute">
    <origin rpy="3.1415 0 0" xyz="0.3195 0 -0.03105"/>
    <parent link="elbow2__INPUT_INTERFACE"/>
    <child link="leg2__LAST_LINK"/>
    <axis xyz="0 0 1"/>
    <dynamics damping=".1" friction="0.2"/>
    <limit effort="80.0" lower="-3.1415" upper="3.1415" velocity="2.208932"/>
  </joint>
  <transmission name="elbow2_trans">
    <type>transmission_interface/SimpleTransmission</type>
    <joint name="elbow2">
      <hardwareInterface>hardware_interface/EffortJointInterface</hardwareInterface>
    </joint>
    <actuator name="elbow2_motor">
      <hardwareInterface>hardware_interface/EffortJointInterface</hardwareInterface>
      <mechanicalReduction>300</mechanicalReduction>
    </actuator>
  </transmission>
  <link name="leg2__FOOT">
    <visual>
      <origin rpy="0 0 0" xyz="0 0 0"/>
      <geometry>
        <sphere radius="0.02"/>
      </geometry>
      <material name="orange"/>
    </visual>
    <collision>
      <origin rpy="0 0 0" xyz="0 0 0"/>
      <geometry>
        <sphere radius="0.03"/>
      </geometry>
    </collision>
    <inertial>
      <origin rpy="0 0 0" xyz="0 0 0"/>
      <mass value="0.06"/>
      <inertia ixx="9.6e-06" ixy="0.0" ixz="0.0" iyy="9.6e-06" iyz="0.0" izz="9.6e-06"/>
    </inertial>
  </link>
  <joint name="leg2__FOOT_INTERFACE" type="fixed">
    <origin rpy="0 0 0" xyz="0.31 0 0.02"/>
    <parent link="leg2__LAST_LINK"/>
    <child link="leg2__FOOT"/>
    <axis xyz="0 0 1"/>
    <limit effort="0" velocity="0"/>
  </joint>
  <link name="base4__INPUT_INTERFACE">
    <inertial>
      <origin rpy="0 0 0" xyz="0.015005 0.001775 0.015011"/>
      <mass value="1.2804"/>
      <inertia ixx="0.000533112547871023" ixy="8.52907138161489E-05" ixz="6.73224445510202E-07" iyy="0.000959826064510336" iyz="8.0840859065961E-07" izz="0.00130175668733721"/>
    </inertial>
    <visual>
      <origin rpy="0 0 0" xyz="0 0 0.015"/>
      <geometry>
        <mesh filename="yuna_stl/M6_base_motor.STL"/>
      </geometry>
      <material name="red">
      </material>
    </visual>
    <collision>
      <origin
          xyz="0 0 0.015"
          rpy="0 0 0" />
        <geometry>
          <mesh
            filename="yuna_stl/boxed_meshes/base_motor.STL" />
        </geometry>
    </collision>
  </link>
  <joint name="leg4__OUTPUT_INTERFACE" type="fixed">
    <origin rpy="0 0 1.57075" xyz="0 -0.1875 0"/>
    <parent link="base_link"/>
    <child link="base4__INPUT_INTERFACE"/>
    <axis xyz="0 0 1"/>
    <limit effort="0" velocity="0"/>
  </joint>
  <link name="shoulder4__INPUT_INTERFACE">
    <inertial>
      <origin rpy="0 0 0" xyz="-0.012554 -0.0090693 -0.0503697"/>
      <mass value="1.4679"/>
      <inertia ixx="0.00085304" ixy="-4.463E-05" ixz="-4.178E-05" iyy="0.0016596" iyz="-4.4E-06" izz="0.00113592"/>
    </inertial>
    <visual>
      <origin rpy="0 0 0" xyz="0 0 0"/>
      <geometry>
        <mesh filename="yuna_stl/M6_right_link1_red.STL"/>
      </geometry>
      <material name="grey">
      </material>
    </visual>
    <collision>
      <origin
          xyz="0 0 0"
          rpy="0 0 0" />
        <geometry>
          <mesh
            filename="yuna_stl/boxed_meshes/right_link1_red.STL" />
        </geometry>
    </collision>
  </link>
  <joint name="base4" type="revolute">
    <origin rpy="0 0 0" xyz="0 0 0.03105"/>
    <parent link="base4__INPUT_INTERFACE"/>
    <child link="shoulder4__INPUT_INTERFACE"/>
    <axis xyz="0 0 1"/>
    <dynamics damping=".1" friction="0.2"/>
    <limit effort="100.0" lower="-1.57075" upper="1.57075" velocity="2.208932"/>
  </joint>
  <transmission name="base4_trans">
    <type>transmission_interface/SimpleTransmission</type>
    <joint name="base4">
      <hardwareInterface>hardware_interface/EffortJointInterface</hardwareInterface>
    </joint>
    <actuator name="base4_motor">
      <hardwareInterface>hardware_interface/EffortJointInterface</hardwareInterface>
      <mechanicalReduction>300</mechanicalReduction>
    </actuator>
  </transmission>
  <link name="elbow4__INPUT_INTERFACE">
    <inertial>
      <origin rpy="0 0 0" xyz="0.27885723 0.00143862 -0.00919708"/>
      <mass value="1.58985"/>
      <inertia ixx="0.00087813" ixy="-2.653E-05" ixz="-0.00101493" iyy="0.01121522" iyz="-1.36E-05" izz="0.01137087"/>
    </inertial>
    <visual>
      <origin rpy="0 0 0" xyz="0 0 0"/>
      <geometry>
        <mesh filename="yuna_stl/M6_link2_red.STL"/>
      </geometry>
      <material name="red">
      </material>
    </visual>
    <collision>
      <origin
          xyz="0 0 0"
          rpy="0 0 0" />
        <geometry>
          <mesh
            filename="yuna_stl/boxed_meshes/link2_red.STL" />
        </geometry>
    </collision>
    <collision>
      <origin rpy="0 1.57075 0" xyz="0.159500 0.0 0.02"/>
      <geometry>
        <cylinder length="0.246" radius="0.015811"/>
      </geometry>
    </collision>
    <collision>
      <origin rpy="0 0 0" xyz="0.317750 0.0 0.01875"/>
      <geometry>
        <box size="0.06850 0.06500 0.037500"/>
      </geometry>
    </collision>
    <collision>
      <origin rpy="0.0 0.0 0.0" xyz="0.299560 0.001750 -0.015520"/>
      <geometry>
        <box size="0.106400 0.069500 0.030050"/>
      </geometry>
    </collision>
  </link>
  <joint name="shoulder4" type="revolute">
    <origin rpy="1.57075 0 3.1415" xyz="0 0.00855 0.055"/>
    <parent link="shoulder4__INPUT_INTERFACE"/>
    <child link="elbow4__INPUT_INTERFACE"/>
    <axis xyz="0 0 1"/>
    <dynamics damping=".1" friction="0.2"/>
    <limit effort="100.0" lower="-1.57075" upper="1.57075" velocity="2.208932"/>
  </joint>
  <transmission name="shoulder4_trans">
    <type>transmission_interface/SimpleTransmission</type>
    <joint name="shoulder4">
      <hardwareInterface>hardware_interface/EffortJointInterface</hardwareInterface>
    </joint>
    <actuator name="shoulder4_motor">
      <hardwareInterface>hardware_interface/EffortJointInterface</hardwareInterface>
      <mechanicalReduction>300</mechanicalReduction>
    </actuator>
  </transmission>
  <link name="leg4__LAST_LINK">
    <inertial>
      <origin rpy="0 0 0" xyz="0.12121923 0 0.01723596"/>
      <mass value="0.229433"/>
      <inertia ixx="7.471E-05" ixy="0" ixz="7.798E-05" iyy="0.00331684" iyz="0" izz="0.0033262"/>
    </inertial>
    <visual>
      <origin rpy="0 0 0" xyz="0 0 0"/>
      <geometry>
        <mesh filename="yuna_stl/M6_link3_red.STL"/>
      </geometry>
      <material name="grey">
      </material>
    </visual>
    <collision>
        <origin
          xyz="0 0 0"
          rpy="0 0 0" />
        <geometry>
          <mesh
            filename="yuna_stl/boxed_meshes/link3_red.STL" />
        </geometry>
      </collision>
    <collision>
      <origin rpy="0 0 0" xyz="0.00575 0.0 0.0185"/>
      <geometry>
        <box size="0.05850 0.04800 0.03650"/>
      </geometry>
    </collision>
    <collision>
      <origin rpy="0.0 1.57075 0.0" xyz="0.15125 0.000 0.020"/>
      <geometry>
        <cylinder length="0.230500" radius="0.015811"/>
      </geometry>
    </collision>
    <collision>
      <origin rpy="0.0 0.0 0.0" xyz="0.28950 0.00 0.02"/>
      <geometry>
        <box size="0.045000 0.047030 0.047030"/>
      </geometry>
    </collision>
  </link>
  <joint name="elbow4" type="revolute">
    <origin rpy="3.1415 0 0" xyz="0.3195 0 -0.03105"/>
    <parent link="elbow4__INPUT_INTERFACE"/>
    <child link="leg4__LAST_LINK"/>
    <axis xyz="0 0 1"/>
    <dynamics damping=".1" friction="0.2"/>
    <limit effort="100.0" lower="-3.1415" upper="3.1415" velocity="2.208932"/>
  </joint>
  <transmission name="elbow4_trans">
    <type>transmission_interface/SimpleTransmission</type>
    <joint name="elbow4">
      <hardwareInterface>hardware_interface/EffortJointInterface</hardwareInterface>
    </joint>
    <actuator name="elbow4_motor">
      <hardwareInterface>hardware_interface/EffortJointInterface</hardwareInterface>
      <mechanicalReduction>300</mechanicalReduction>
    </actuator>
  </transmission>
  <link name="leg4__FOOT">
    <visual>
      <origin rpy="0 0 0" xyz="0 0 0"/>
      <geometry>
        <sphere radius="0.02"/>
      </geometry>
      <material name="orange"/>
    </visual>
    <collision>
      <origin rpy="0 0 0" xyz="0 0 0"/>
      <geometry>
        <sphere radius="0.03"/>
      </geometry>
    </collision>
    <inertial>
      <origin rpy="0 0 0" xyz="0 0 0"/>
      <mass value="0.06"/>
      <inertia ixx="9.6e-06" ixy="0.0" ixz="0.0" iyy="9.6e-06" iyz="0.0" izz="9.6e-06"/>
    </inertial>
  </link>
  <joint name="leg4__FOOT_INTERFACE" type="fixed">
    <origin rpy="0 0 0" xyz="0.31 0 0.02"/>
    <parent link="leg4__LAST_LINK"/>
    <child link="leg4__FOOT"/>
    <axis xyz="0 0 1"/>
    <limit effort="0" velocity="0"/>
  </joint>
  <link name="base6__INPUT_INTERFACE">
    <inertial>
      <origin rpy="0 0 0" xyz="0.015005 0.001775 0.015011"/>
      <mass value="1.2804"/>
      <inertia ixx="0.000533112547871023" ixy="8.52907138161489E-05" ixz="6.73224445510202E-07" iyy="0.000959826064510336" iyz="8.0840859065961E-07" izz="0.00130175668733721"/>
    </inertial>
    <visual>
      <origin rpy="0 0 0" xyz="0 0 0.015"/>
      <geometry>
        <mesh filename="yuna_stl/M6_base_motor.STL"/>
      </geometry>
      <material name="red">
      </material>
    </visual>
    <collision>
      <origin
          xyz="0 0 0.015"
          rpy="0 0 0" />
        <geometry>
          <mesh
            filename="yuna_stl/boxed_meshes/base_motor.STL" />
        </geometry>
    </collision>
  </link>
  <joint name="leg6__OUTPUT_INTERFACE" type="fixed">
    <origin rpy="0 0 0.523583333333" xyz="-0.205681 -0.11875 0"/>
    <parent link="base_link"/>
    <child link="base6__INPUT_INTERFACE"/>
    <axis xyz="0 0 1"/>
    <limit effort="0" velocity="0"/>
  </joint>
  <link name="shoulder6__INPUT_INTERFACE">
    <inertial>
      <origin rpy="0 0 0" xyz="-0.012554 -0.0090693 -0.0503697"/>
      <mass value="1.4679"/>
      <inertia ixx="0.00085304" ixy="-4.463E-05" ixz="-4.178E-05" iyy="0.0016596" iyz="-4.4E-06" izz="0.00113592"/>
    </inertial>
    <visual>
      <origin rpy="0 0 0" xyz="0 0 0"/>
      <geometry>
        <mesh filename="yuna_stl/M6_right_link1_red.STL"/>
      </geometry>
      <material name="grey">
      </material>
    </visual>
    <collision>
      <origin
          xyz="0 0 0"
          rpy="0 0 0" />
        <geometry>
          <mesh
            filename="yuna_stl/boxed_meshes/right_link1_red.STL" />
        </geometry>
    </collision>
  </link>
  <joint name="base6" type="revolute">
    <origin rpy="0 0 0" xyz="0 0 0.03105"/>
    <parent link="base6__INPUT_INTERFACE"/>
    <child link="shoulder6__INPUT_INTERFACE"/>
    <axis xyz="0 0 1"/>
    <dynamics damping=".1" friction="0.2"/>
    <limit effort="100.0" lower="-1.57075" upper="1.57075" velocity="2.208932"/>
  </joint>
  <transmission name="base6_trans">
    <type>transmission_interface/SimpleTransmission</type>
    <joint name="base6">
      <hardwareInterface>hardware_interface/EffortJointInterface</hardwareInterface>
    </joint>
    <actuator name="base6_motor">
      <hardwareInterface>hardware_interface/EffortJointInterface</hardwareInterface>
      <mechanicalReduction>300</mechanicalReduction>
    </actuator>
  </transmission>
  <link name="elbow6__INPUT_INTERFACE">
    <inertial>
      <origin rpy="0 0 0" xyz="0.27885723 0.00143862 -0.00919708"/>
      <mass value="1.58985"/>
      <inertia ixx="0.00087813" ixy="-2.653E-05" ixz="-0.00101493" iyy="0.01121522" iyz="-1.36E-05" izz="0.01137087"/>
    </inertial>
    <visual>
      <origin rpy="0 0 0" xyz="0 0 0"/>
      <geometry>
        <mesh filename="yuna_stl/M6_link2_red.STL"/>
      </geometry>
      <material name="red">
      </material>
    </visual>
    <collision>
      <origin
          xyz="0 0 0"
          rpy="0 0 0" />
        <geometry>
          <mesh
            filename="yuna_stl/boxed_meshes/link2_red.STL" />
        </geometry>
    </collision>
    <collision>
      <origin rpy="0 1.57075 0" xyz="0.159500 0.0 0.02"/>
      <geometry>
        <cylinder length="0.246" radius="0.015811"/>
      </geometry>
    </collision>
    <collision>
      <origin rpy="0 0 0" xyz="0.317750 0.0 0.01875"/>
      <geometry>
        <box size="0.06850 0.06500 0.037500"/>
      </geometry>
    </collision>
    <collision>
      <origin rpy="0.0 0.0 0.0" xyz="0.299560 0.001750 -0.015520"/>
      <geometry>
        <box size="0.106400 0.069500 0.030050"/>
      </geometry>
    </collision>
  </link>
  <joint name="shoulder6" type="revolute">
    <origin rpy="1.57075 0 3.1415" xyz="0 0.00855 0.055"/>
    <parent link="shoulder6__INPUT_INTERFACE"/>
    <child link="elbow6__INPUT_INTERFACE"/>
    <axis xyz="0 0 1"/>
    <dynamics damping=".1" friction="0.2"/>
    <limit effort="100.0" lower="-1.57075" upper="1.57075" velocity="2.208932"/>
  </joint>
  <transmission name="shoulder6_trans">
    <type>transmission_interface/SimpleTransmission</type>
    <joint name="shoulder6">
      <hardwareInterface>hardware_interface/EffortJointInterface</hardwareInterface>
    </joint>
    <actuator name="shoulder6_motor">
      <hardwareInterface>hardware_interface/EffortJointInterface</hardwareInterface>
      <mechanicalReduction>300</mechanicalReduction>
    </actuator>
  </transmission>
  <link name="leg6__LAST_LINK">
    <inertial>
      <origin rpy="0 0 0" xyz="0.12121923 0 0.01723596"/>
      <mass value="0.229433"/>
      <inertia ixx="7.471E-05" ixy="0" ixz="7.798E-05" iyy="0.00331684" iyz="0" izz="0.0033262"/>
    </inertial>
    <visual>
      <origin rpy="0 0 0" xyz="0 0 0"/>
      <geometry>
        <mesh filename="yuna_stl/M6_link3_red.STL"/>
      </geometry>
      <material name="grey">
      </material>
    </visual>
    <collision>
        <origin
          xyz="0 0 0"
          rpy="0 0 0" />
        <geometry>
          <mesh
            filename="yuna_stl/boxed_meshes/link3_red.STL" />
        </geometry>
      </collision>
    <collision>
      <origin rpy="0 0 0" xyz="0.00575 0.0 0.0185"/>
      <geometry>
        <box size="0.05850 0.04800 0.03650"/>
      </geometry>
    </collision>
    <collision>
      <origin rpy="0.0 1.57075 0.0" xyz="0.15125 0.000 0.020"/>
      <geometry>
        <cylinder length="0.230500" radius="0.015811"/>
      </geometry>
    </collision>
    <collision>
      <origin rpy="0.0 0.0 0.0" xyz="0.28950 0.00 0.02"/>
      <geometry>
        <box size="0.045000 0.047030 0.047030"/>
      </geometry>
    </collision>
  </link>
  <joint name="elbow6" type="revolute">
    <origin rpy="3.1415 0 0" xyz="0.3195 0 -0.03105"/>
    <parent link="elbow6__INPUT_INTERFACE"/>
    <child link="leg6__LAST_LINK"/>
    <axis xyz="0 0 1"/>
    <dynamics damping=".1" friction="0.2"/>
    <limit effort="100.0" lower="-3.1415" upper="3.1415" velocity="2.208932"/>
  </joint>
  <transmission name="elbow6_trans">
    <type>transmission_interface/SimpleTransmission</type>
    <joint name="elbow6">
      <hardwareInterface>hardware_interface/EffortJointInterface</hardwareInterface>
    </joint>
    <actuator name="elbow6_motor">
      <hardwareInterface>hardware_interface/EffortJointInterface</hardwareInterface>
      <mechanicalReduction>300</mechanicalReduction>
    </actuator>
  </transmission>
  <link name="leg6__FOOT">
    <visual>
      <origin rpy="0 0 0" xyz="0 0 0"/>
      <geometry>
        <sphere radius="0.02"/>
      </geometry>
      <material name="orange"/>
    </visual>
    <collision>
      <origin rpy="0 0 0" xyz="0 0 0"/>
      <geometry>
        <sphere radius="0.03"/>
      </geometry>
    </collision>
    <inertial>
      <origin rpy="0 0 0" xyz="0 0 0"/>
      <mass value="0.06"/>
      <inertia ixx="9.6e-06" ixy="0.0" ixz="0.0" iyy="9.6e-06" iyz="0.0" izz="9.6e-06"/>
    </inertial>
  </link>
  <joint name="leg6__FOOT_INTERFACE" type="fixed">
    <origin rpy="0 0 0" xyz="0.31 0 0.02"/>
    <parent link="leg6__LAST_LINK"/>
    <child link="leg6__FOOT"/>
    <axis xyz="0 0 1"/>
    <limit effort="0" velocity="0"/>
  </joint>
</robot>
